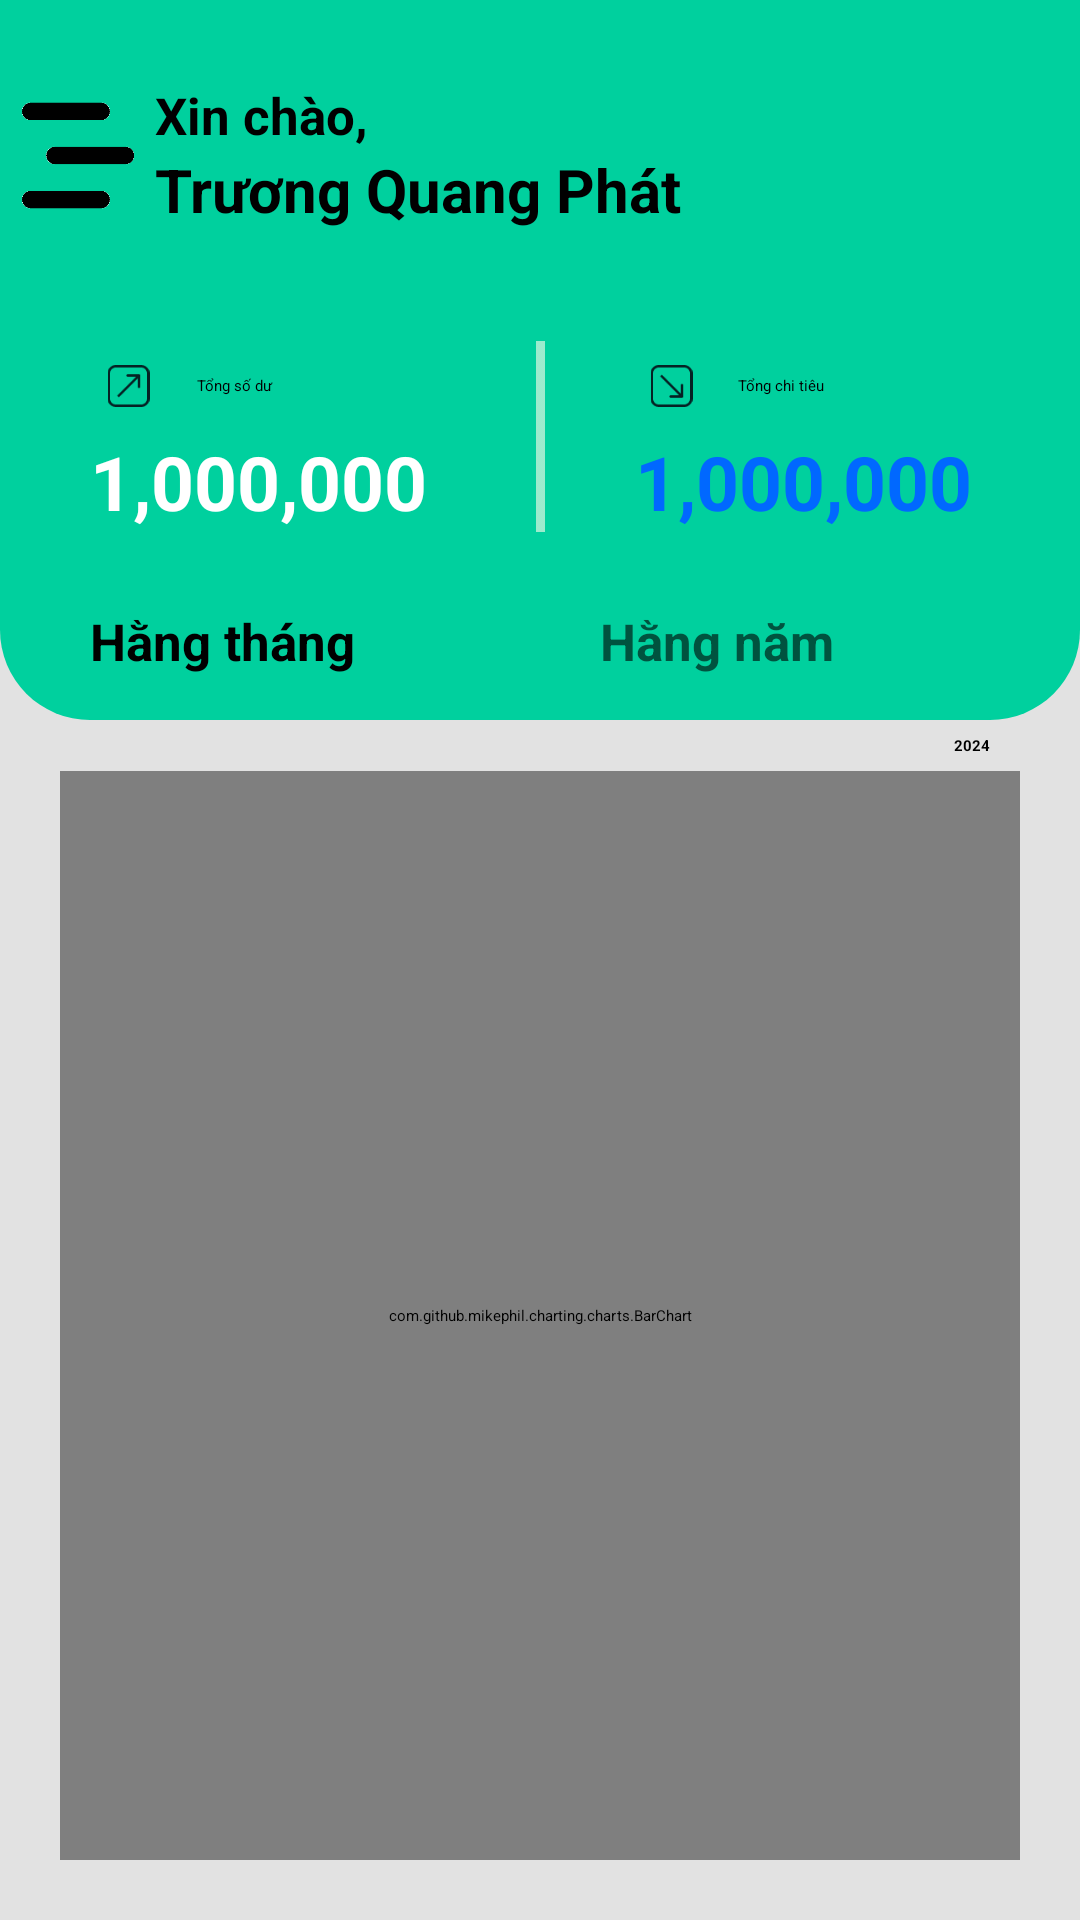

Named icons in this screenshot (1080 × 1920) and their centers, point (x, y):
expense: point (672, 386)
income: point (129, 386)
